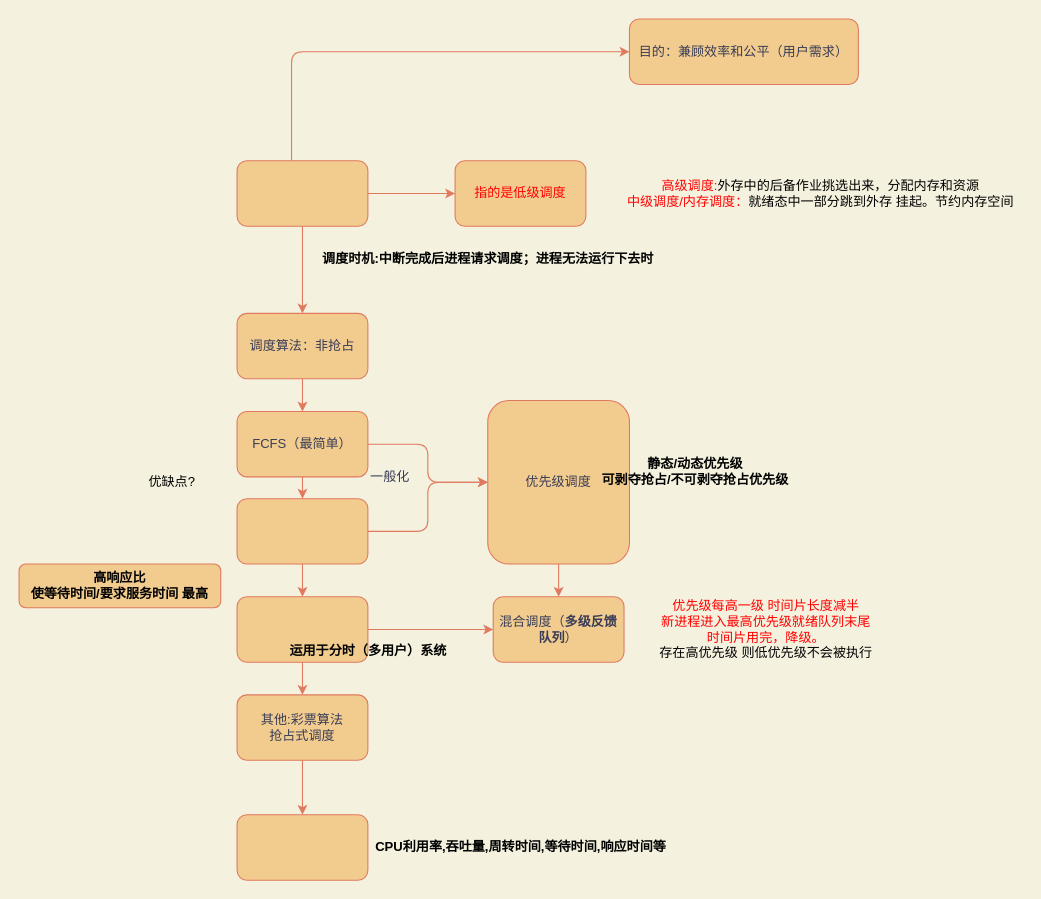
The diagram is 1041 pixels wide and 899 high, and some of its shapes have lost their labels. Each missing label, with the box of its shape:
时间片轮转: (236, 596, 368, 662)
短进程优先: (236, 498, 368, 564)
计算: (236, 814, 368, 880)
进程调度: (236, 160, 368, 226)
